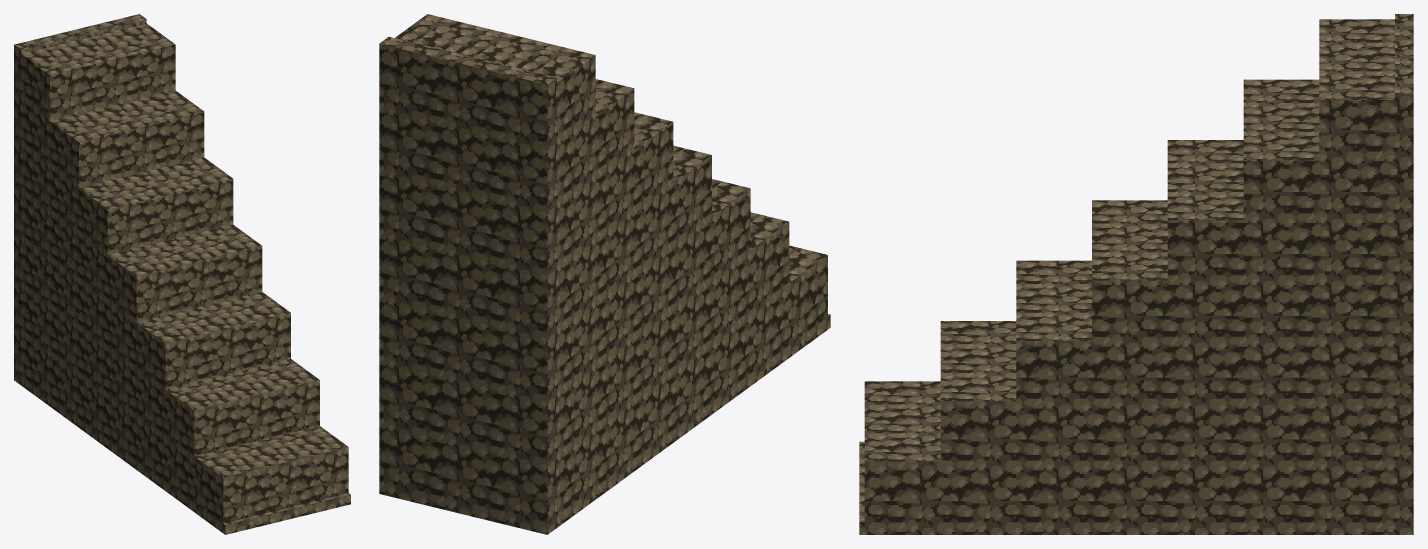
The model's file is Stairs.glb.
3 views of the same model, side by side, from view 1: azimuth 30°, elevation 25°; view 2: azimuth 150°, elevation 25°; view 3: azimuth 270°, elevation 25° (orthographic). The views are drawn at different scales.
Visible parts, largest first — view 1: Stairs; view 2: Stairs; view 3: Stairs.
Part boxes in pixels (x1=…): Stairs: x1=14, y1=14, x2=350, y2=534; Stairs: x1=379, y1=14, x2=830, y2=534; Stairs: x1=859, y1=14, x2=1413, y2=534.
Size of the model in its own units: 1.3 by 3.32 by 3.78.
Materials: 1 (1 with a texture image).
